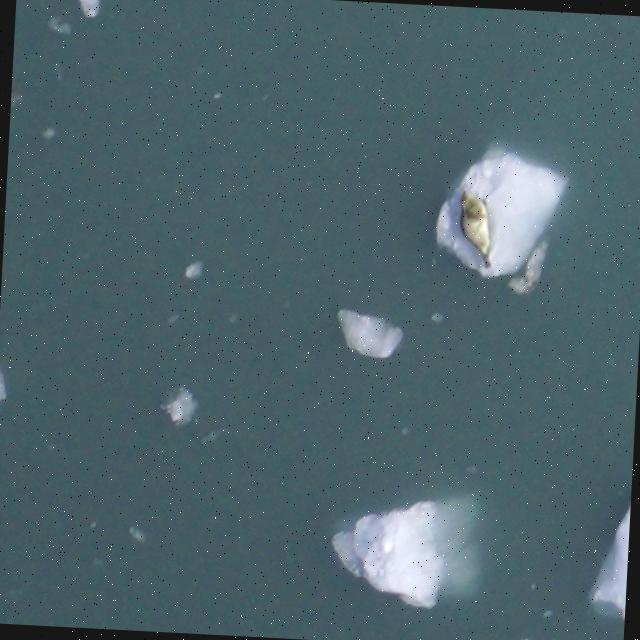seal: (451, 188, 498, 273)
